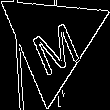M_NW: (23, 8, 81, 73)
